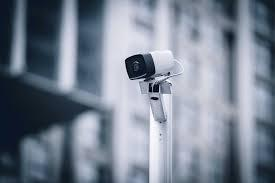tutu: (121, 47, 181, 86)
